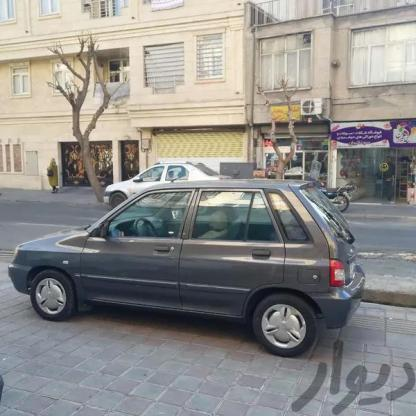Car: (0, 177, 349, 358), (90, 162, 239, 208)
